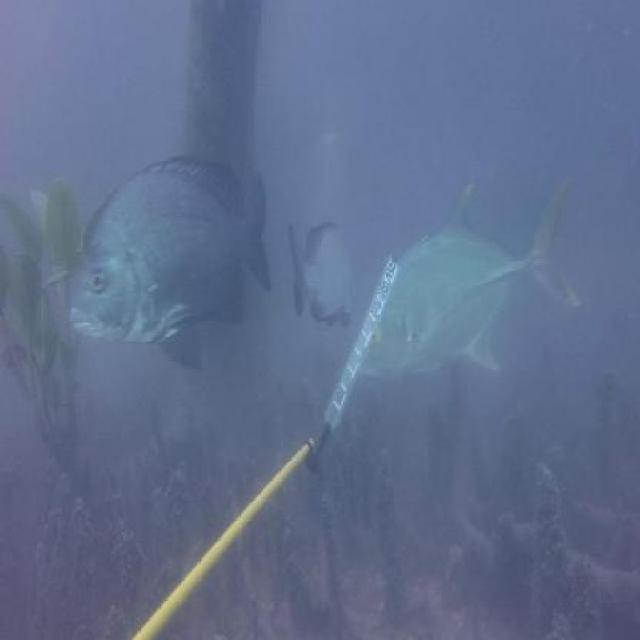Caranx: (358, 172, 580, 386)
acanthopagrus_palmaris: (66, 156, 276, 378), (286, 209, 357, 331)
